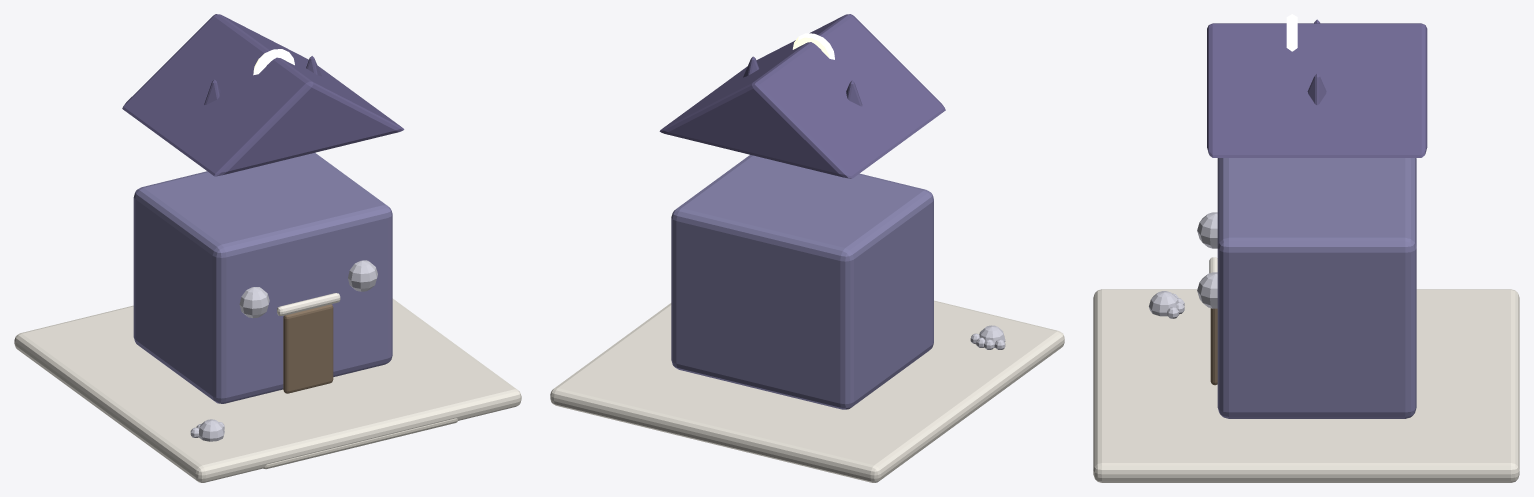
File: werewolf.glb
3 renders of one model, left to right at view 1: azimuth 30°, elevation 25°; view 2: azimuth 150°, elevation 25°; view 3: azimuth 270°, elevation 25°, orthographic. The views are drawn at different scales.
Parts seen in each view (by area): view 1: QBase, QWolfRoof, QWolfPawMain; view 2: QBase, QWolfRoof, QWolfPawMain; view 3: QBase, QWolfRoof, QWolfPawMain.
Part boxes in pixels (x1,y1,x2,y2): QBase: (14,56,521,482); QWolfRoof: (122,14,404,176); QWolfPawMain: (190,260,377,441); QBase: (550,56,1064,482); QWolfRoof: (659,14,945,178); QWolfPawMain: (970,325,1005,349); QBase: (1093,19,1519,482); QWolfRoof: (1207,23,1427,157); QWolfPawMain: (1149,212,1217,318).
Bounding box in the file's own units: 6 × 5.89 × 6.
Materials: 5 (5 with a texture image).
